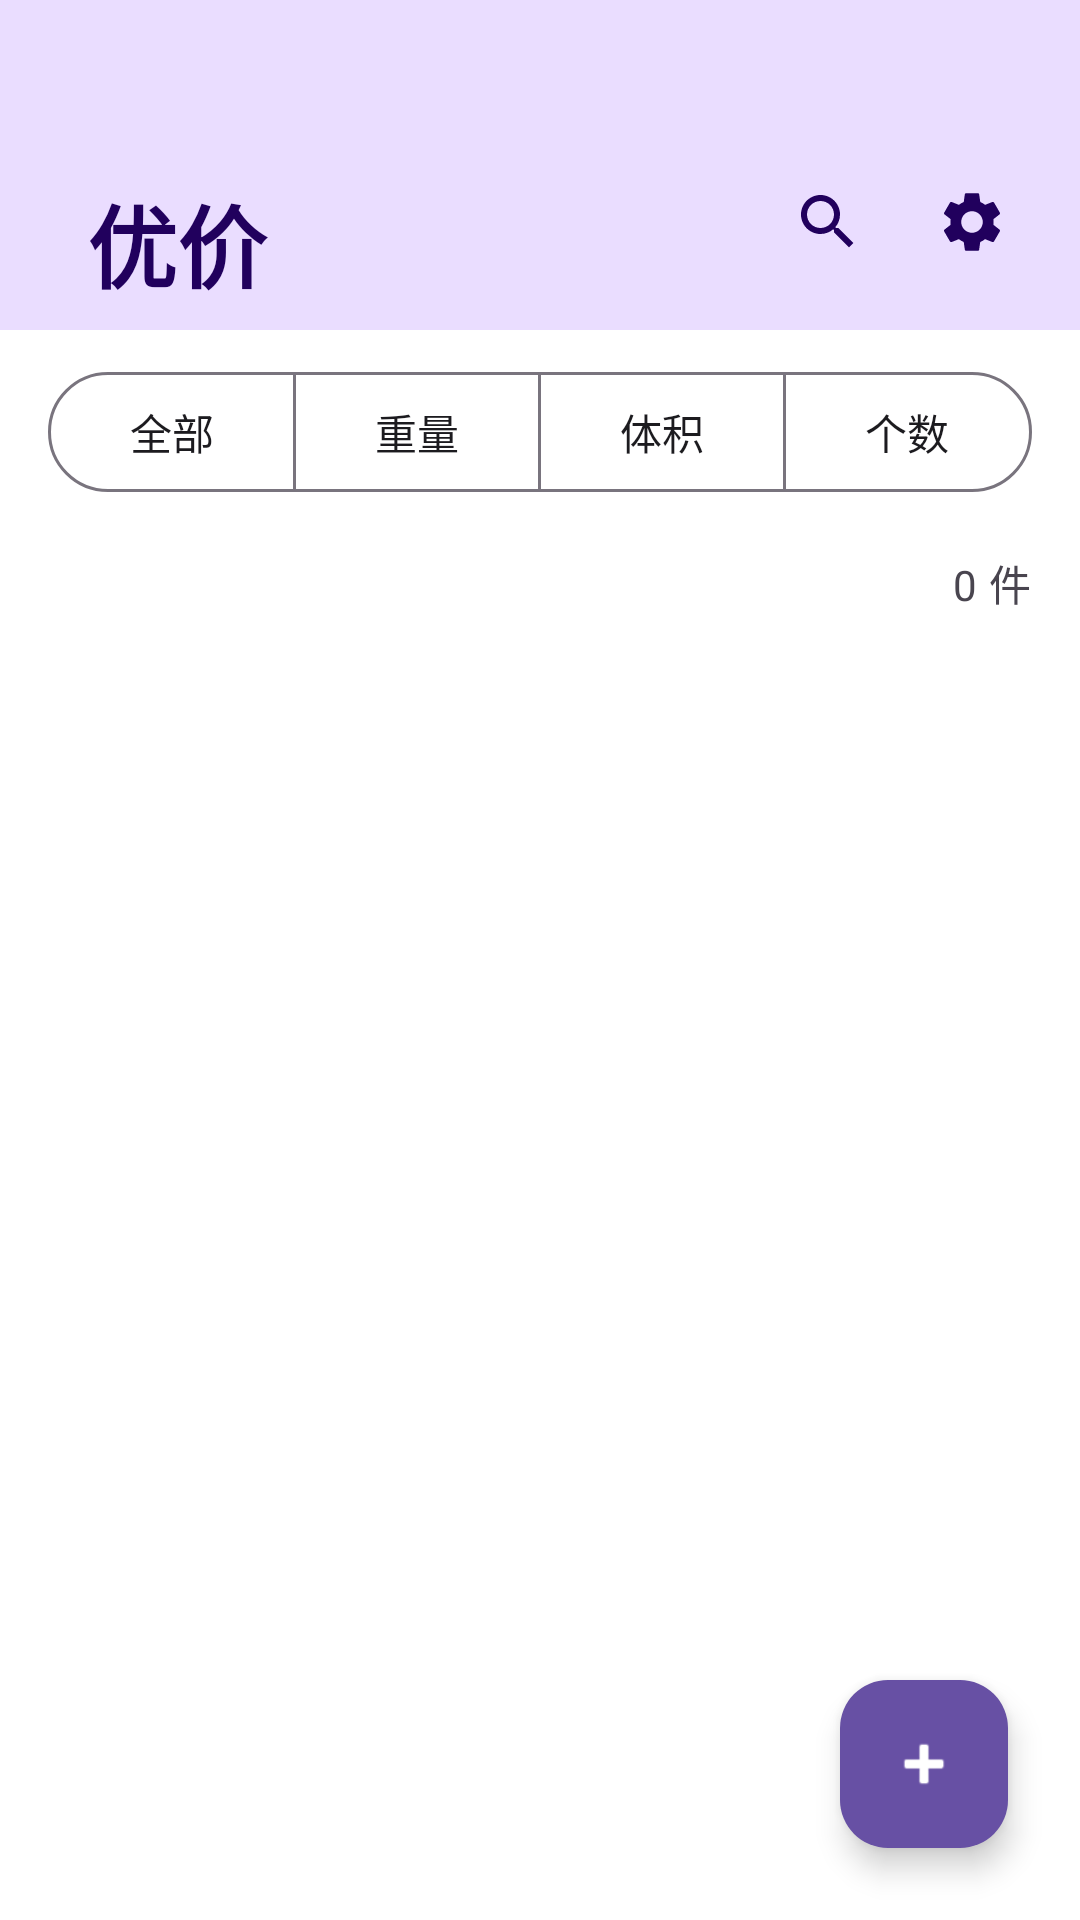

Icon bounding boxes for this 1080px x 1920px phone screenshot, format (x1, y1, x2, y2):
搜索: (801, 195, 853, 247)
添加商品: (840, 1680, 1008, 1848)
设置: (944, 193, 1000, 251)
